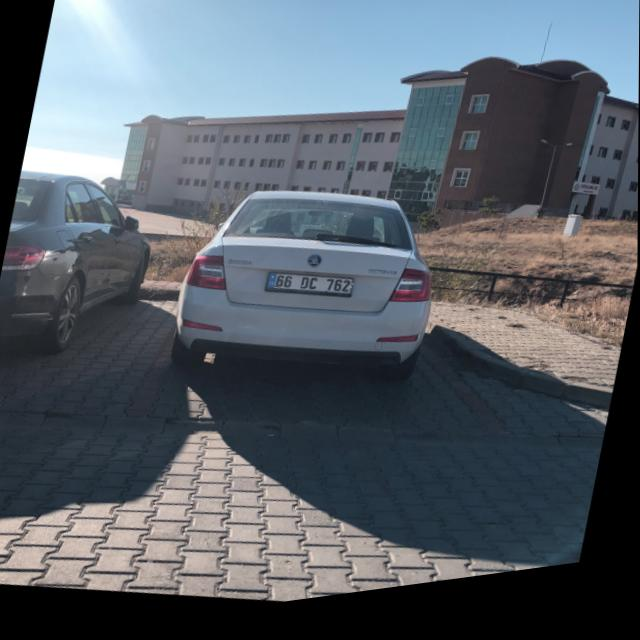license_plate: (266, 271, 356, 313)
